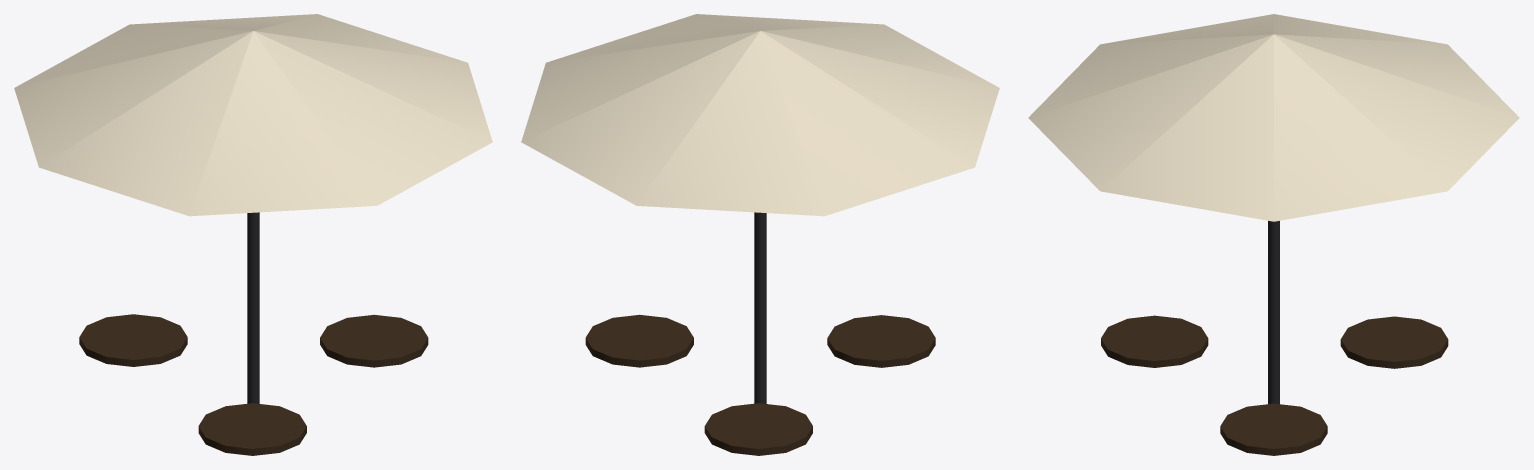
The model's file is prop_umbrella.glb.
The picture shows the model from 3 angles, left to right: view 1: azimuth 30°, elevation 25°; view 2: azimuth 150°, elevation 25°; view 3: azimuth 270°, elevation 25°; orthographic projection.
Size of the model in its own units: 3.2 by 2.8 by 3.2.
